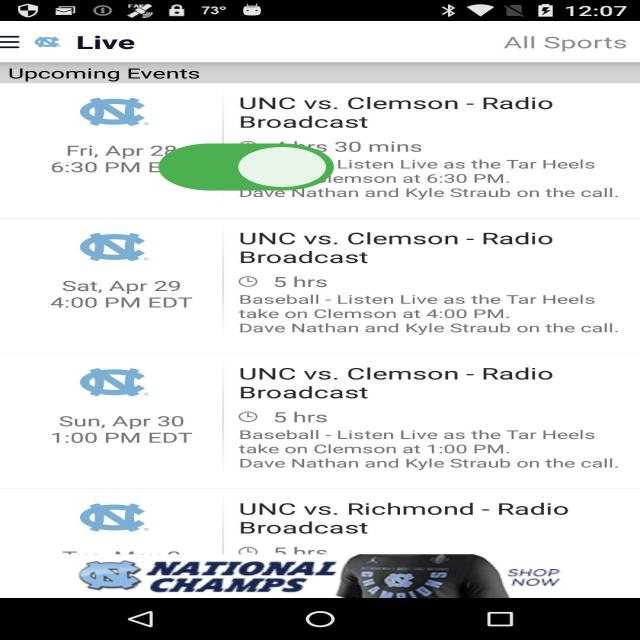social proof: (150, 125, 342, 212)
